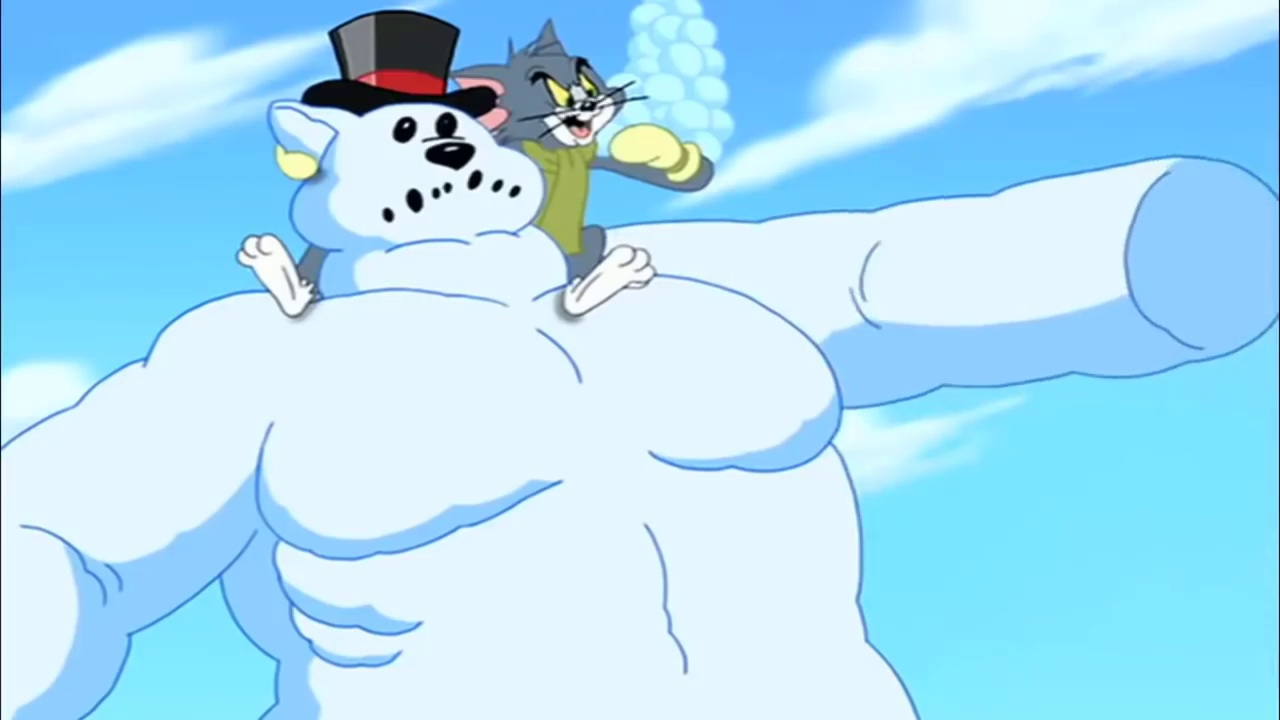face: (523, 56, 613, 147)
